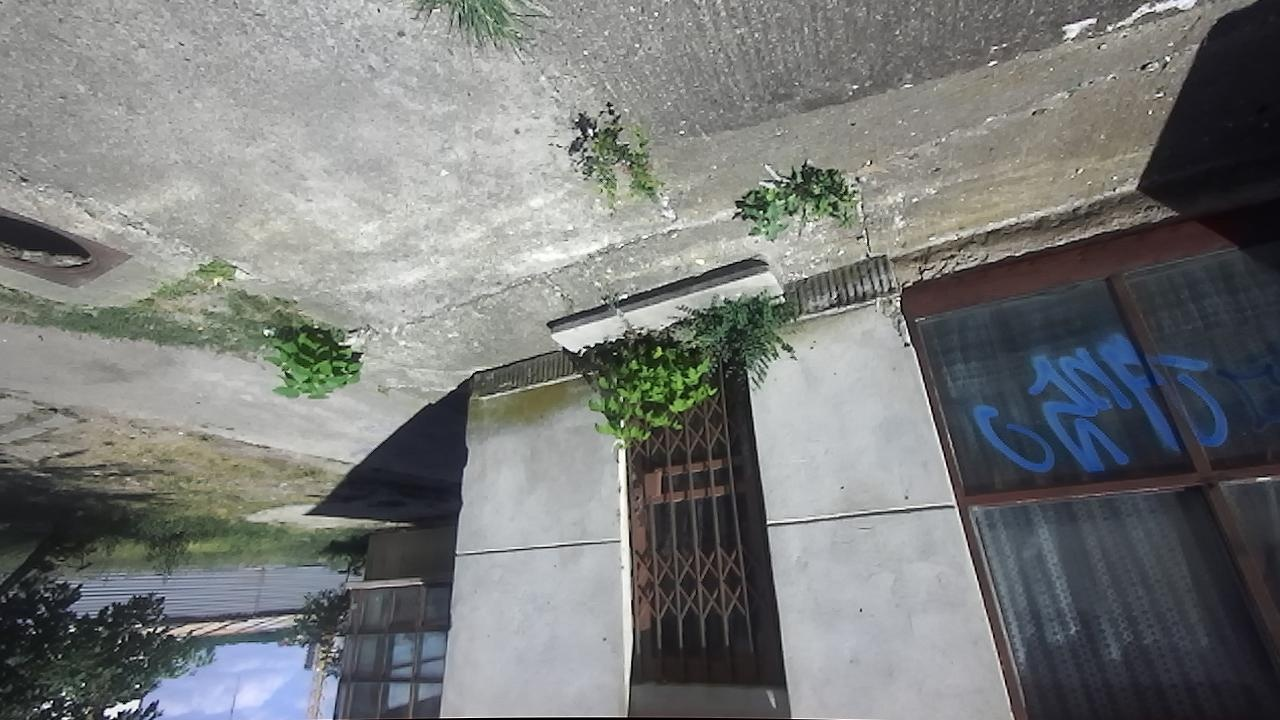drain: (0, 213, 108, 278)
